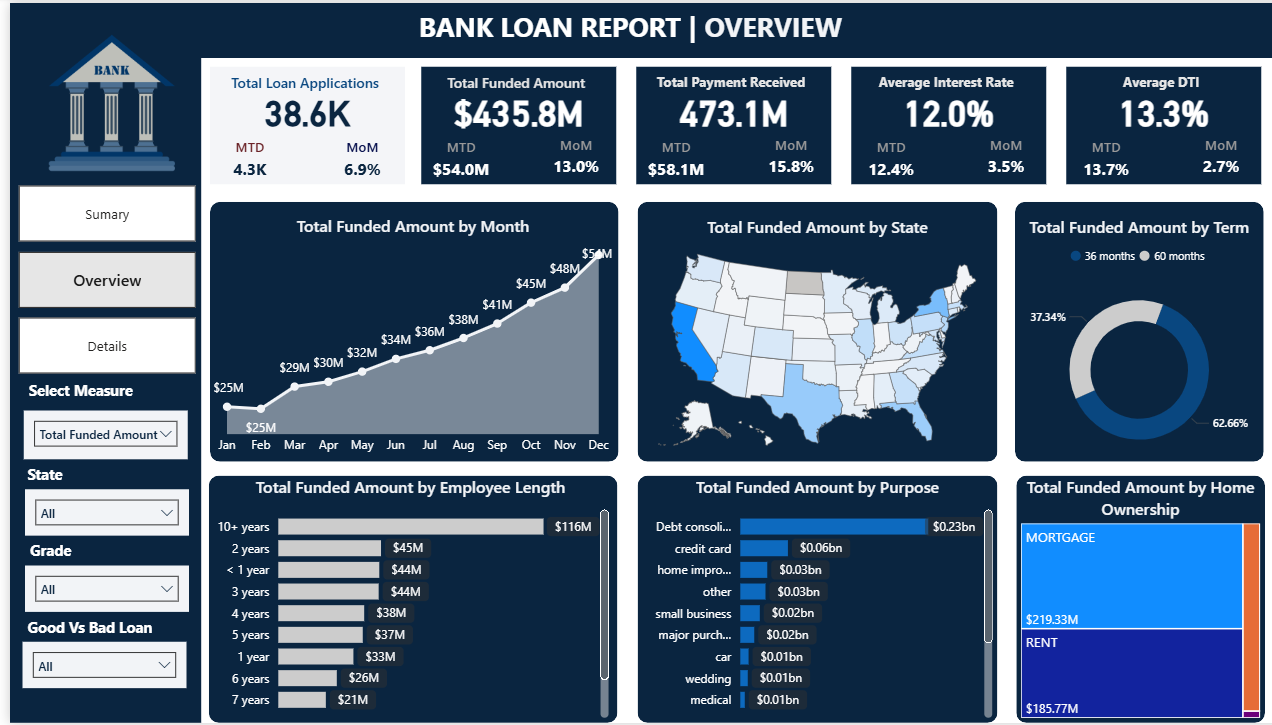

Layout of this report page (visuals, bound fields, positions):
{"tool":"powerbi","page":{"name":"Overview","canvas":[1280,720],"ordinal":1},"visuals":[{"type":"shape","box":[0,55.2,191.4,665],"z":0},{"type":"shape","box":[0,0,1279.8,55],"z":1000},{"type":"textbox","box":[403.7,0,472.4,55.2],"z":2000},{"type":"shape","box":[200,63.8,195,117.5],"z":3000},{"type":"card","fields":{"Values":["financial_loan.Total Loan Applications"]},"box":[197.5,80,200,55],"z":4000},{"type":"textbox","box":[197.5,65,195,30],"z":5000},{"type":"card","title":"MTD","fields":{"Values":["financial_loan.MTD Loan Applications"]},"box":[200,135,80,48.8],"z":6000},{"type":"card","title":"MoM","fields":{"Values":["financial_loan.MoM Loan Applications"]},"box":[312.5,135,80,48.8],"z":7000},{"type":"shape","box":[411.2,63.8,195,117.5],"z":8000},{"type":"card","fields":{"Values":["financial_loan.Total Funded Amount"]},"box":[408.8,80,200,55],"z":9000},{"type":"textbox","box":[408.8,65,195,30],"z":10000},{"type":"card","title":"MTD","fields":{"Values":["financial_loan.MTD Funded Amount"]},"box":[411.2,135,80,48.8],"z":11000},{"type":"card","title":"MoM","fields":{"Values":["financial_loan.MoM Funded Amount"]},"box":[526.2,132.5,80,48.8],"z":12000},{"type":"shape","box":[626.4,63.9,195,117.5],"z":13000},{"type":"card","fields":{"Values":["financial_loan.Total Amount Received"]},"box":[623.9,80.2,200,55],"z":14000},{"type":"textbox","box":[623.9,65.2,195,30],"z":15000},{"type":"card","title":"MTD","fields":{"Values":["financial_loan.MTD Total Received Amount"]},"box":[626.4,135.2,80,48.8],"z":16000},{"type":"card","title":"MoM","fields":{"Values":["financial_loan.MoM Total Received Amount"]},"box":[741.4,132.7,80,48.8],"z":17000},{"type":"shape","box":[841.6,64.1,195,117.5],"z":18000},{"type":"card","fields":{"Values":["financial_loan.Avg Interest Rate"]},"box":[839.1,80.4,200,55],"z":19000},{"type":"textbox","box":[839.1,65.4,195,30],"z":20000},{"type":"card","title":"MTD","fields":{"Values":["financial_loan.MTD Int Rate"]},"box":[841.6,135.4,80,48.8],"z":21000},{"type":"card","title":"MoM","fields":{"Values":["financial_loan.MoM Avg Int Rate"]},"box":[956.6,132.9,80,48.8],"z":22000},{"type":"shape","box":[1055.7,63.3,195,117.5],"z":23000},{"type":"card","fields":{"Values":["financial_loan.Avg DTI"]},"box":[1053.2,79.6,200,55],"z":24000},{"type":"textbox","box":[1053.2,64.6,195,30],"z":25000},{"type":"card","title":"MTD","fields":{"Values":["financial_loan.MTD Avg DTI"]},"box":[1055.7,134.6,80,48.8],"z":26000},{"type":"shape","box":[200,198.8,408.6,260.1],"z":27000},{"type":"card","title":"MoM","fields":{"Values":["financial_loan.MoM Avg DTI"]},"box":[1170.7,132.1,80,48.8],"z":28000},{"type":"slicer","fields":{"Values":["financial_loan.address_state"]},"box":[15,486.2,163.8,46.2],"z":29000},{"type":"textbox","box":[12.5,456.2,163.8,30],"z":30000},{"type":"slicer","fields":{"Values":["financial_loan.grade"]},"box":[15,562.5,163.8,46.2],"z":31000},{"type":"textbox","box":[15,532.5,163.8,30],"z":32000},{"type":"slicer","fields":{"Values":["financial_loan.Good VS Bad Loan"]},"box":[12.5,638.8,163.8,46.2],"z":33000},{"type":"textbox","box":[12.5,608.8,163.8,30],"z":34000},{"type":"areaChart","fields":{"Y":["financial_loan.Total Funded Amount"],"Category":["Date Table.Month"]},"box":[198.8,211,408.6,249.1],"z":35000},{"type":"slicer","fields":{"Values":["Select Measure.Select Measure"]},"box":[13.8,407.5,163.8,48.8],"z":36000},{"type":"textbox","box":[13.8,372.5,163.8,30],"z":37000},{"type":"shape","box":[627,198.8,360,260.1],"z":38000},{"type":"shapeMap","fields":{"Value":["financial_loan.Total Funded Amount"],"Category":["financial_loan.address_state"]},"box":[626.2,212.5,362.5,247.5],"z":39000},{"type":"shape","box":[1005,198.8,248.8,260],"z":40000},{"type":"donutChart","fields":{"Y":["financial_loan.Total Funded Amount"],"Category":["financial_loan.term"]},"box":[1005,212.5,248.8,260],"z":41000},{"type":"shape","box":[198.8,472.5,408.8,247.5],"z":42000},{"type":"barChart","fields":{"Y":["financial_loan.Total Funded Amount"],"Category":["financial_loan.emp_length"]},"box":[197.5,472.5,406.2,247.5],"z":43000},{"type":"shape","box":[627.5,472.5,360,247.5],"z":44000},{"type":"barChart","fields":{"Y":["financial_loan.Total Funded Amount"],"Category":["financial_loan.purpose"]},"box":[627.5,472.5,360,247.5],"z":45000},{"type":"shape","box":[1006.2,472.5,248.8,247.5],"z":46000},{"type":"treemap","fields":{"Values":["financial_loan.Total Funded Amount"],"Group":["financial_loan.home_ownership"]},"box":[1006.2,472.5,248.8,247.5],"z":47000},{"type":"pageNavigator","box":[8.8,182.5,177.5,190],"z":48000},{"type":"image","box":[6.2,0,191.2,198.8],"z":48001}]}

Visuals, with their boxes in screenshot pixels (x1, y1, x2, y2), scaled from the page's 1280x720 canvas onto the 1272x725 screenshot:
shape: 0:56:190:724
shape: 0:0:1271:55
textbox: 401:0:871:56
shape: 199:64:393:183
card - financial_loan.Total Loan Applications: 196:81:395:136
textbox: 196:65:390:96
"MTD" card: 199:136:278:185
"MoM" card: 311:136:390:185
shape: 409:64:602:183
card - financial_loan.Total Funded Amount: 406:81:605:136
textbox: 406:65:600:96
"MTD" card: 409:136:488:185
"MoM" card: 523:133:602:183
shape: 622:64:816:183
card - financial_loan.Total Amount Received: 620:81:819:136
textbox: 620:66:814:96
"MTD" card: 622:136:702:185
"MoM" card: 737:134:816:183
shape: 836:65:1030:183
card - financial_loan.Avg Interest Rate: 834:81:1033:136
textbox: 834:66:1028:96
"MTD" card: 836:136:916:185
"MoM" card: 951:134:1030:183
shape: 1049:64:1243:182
card - financial_loan.Avg DTI: 1047:80:1245:136
textbox: 1047:65:1240:95
"MTD" card: 1049:136:1129:185
shape: 199:200:605:462
"MoM" card: 1163:133:1243:182
slicer - financial_loan.address_state: 15:490:178:536
textbox: 12:459:175:490
slicer - financial_loan.grade: 15:566:178:613
textbox: 15:536:178:566
slicer - financial_loan.Good VS Bad Loan: 12:643:175:690
textbox: 12:613:175:643
areaChart - financial_loan.Total Funded Amount x Date Table.Month: 198:212:604:463
slicer - Select Measure.Select Measure: 14:410:176:459
textbox: 14:375:176:405
shape: 623:200:981:462
shapeMap - financial_loan.Total Funded Amount x financial_loan.address_state: 622:214:983:463
shape: 999:200:1246:462
donutChart - financial_loan.Total Funded Amount x financial_loan.term: 999:214:1246:476
shape: 198:476:604:724
barChart - financial_loan.Total Funded Amount x financial_loan.emp_length: 196:476:600:724
shape: 624:476:981:724
barChart - financial_loan.Total Funded Amount x financial_loan.purpose: 624:476:981:724
shape: 1000:476:1247:724
treemap - financial_loan.Total Funded Amount x financial_loan.home_ownership: 1000:476:1247:724
pageNavigator: 9:184:185:375
image: 6:0:196:200
